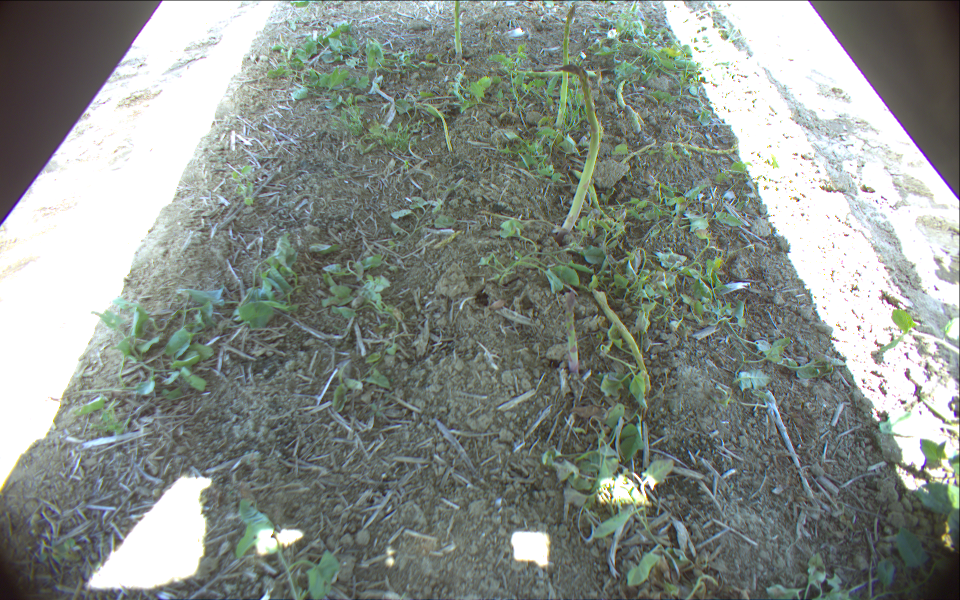aspa: (558, 64, 603, 230), (593, 290, 650, 390), (555, 6, 577, 126), (569, 171, 608, 225), (421, 102, 454, 153), (564, 289, 579, 376), (664, 142, 739, 154), (508, 70, 577, 77), (454, 1, 460, 58)
